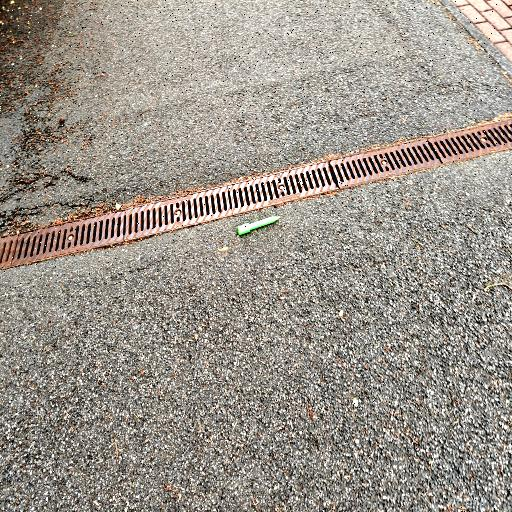Probe-Detection: (238, 217, 280, 235)
